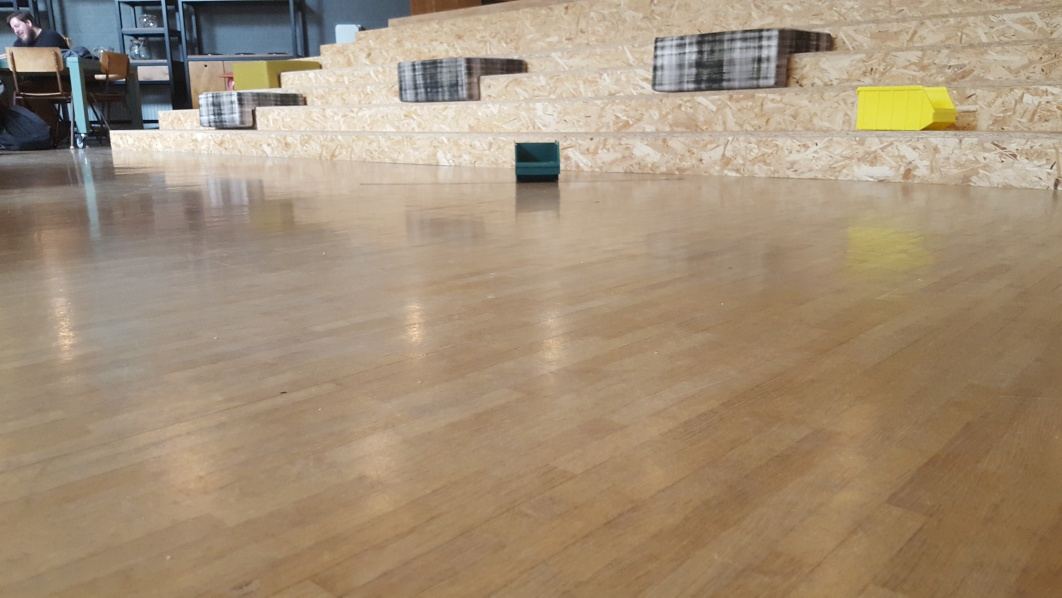tray: (850, 84, 958, 132), (509, 140, 563, 180)
